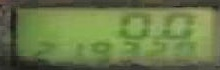-: (151, 32, 160, 38)
0: (115, 11, 149, 38), (160, 11, 193, 38), (168, 40, 193, 61)
1: (64, 40, 84, 60)
2: (26, 39, 53, 58), (142, 40, 164, 60)
3: (113, 40, 137, 61)
9: (87, 38, 109, 61)
